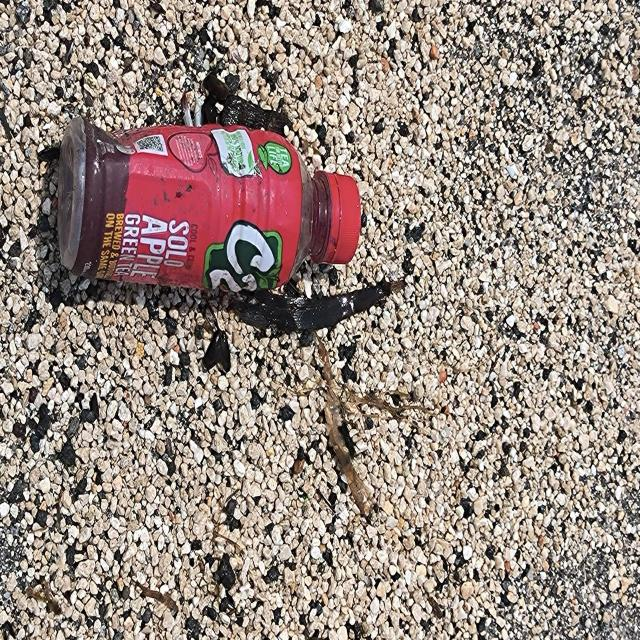plastic_waste: (57, 112, 364, 296)
